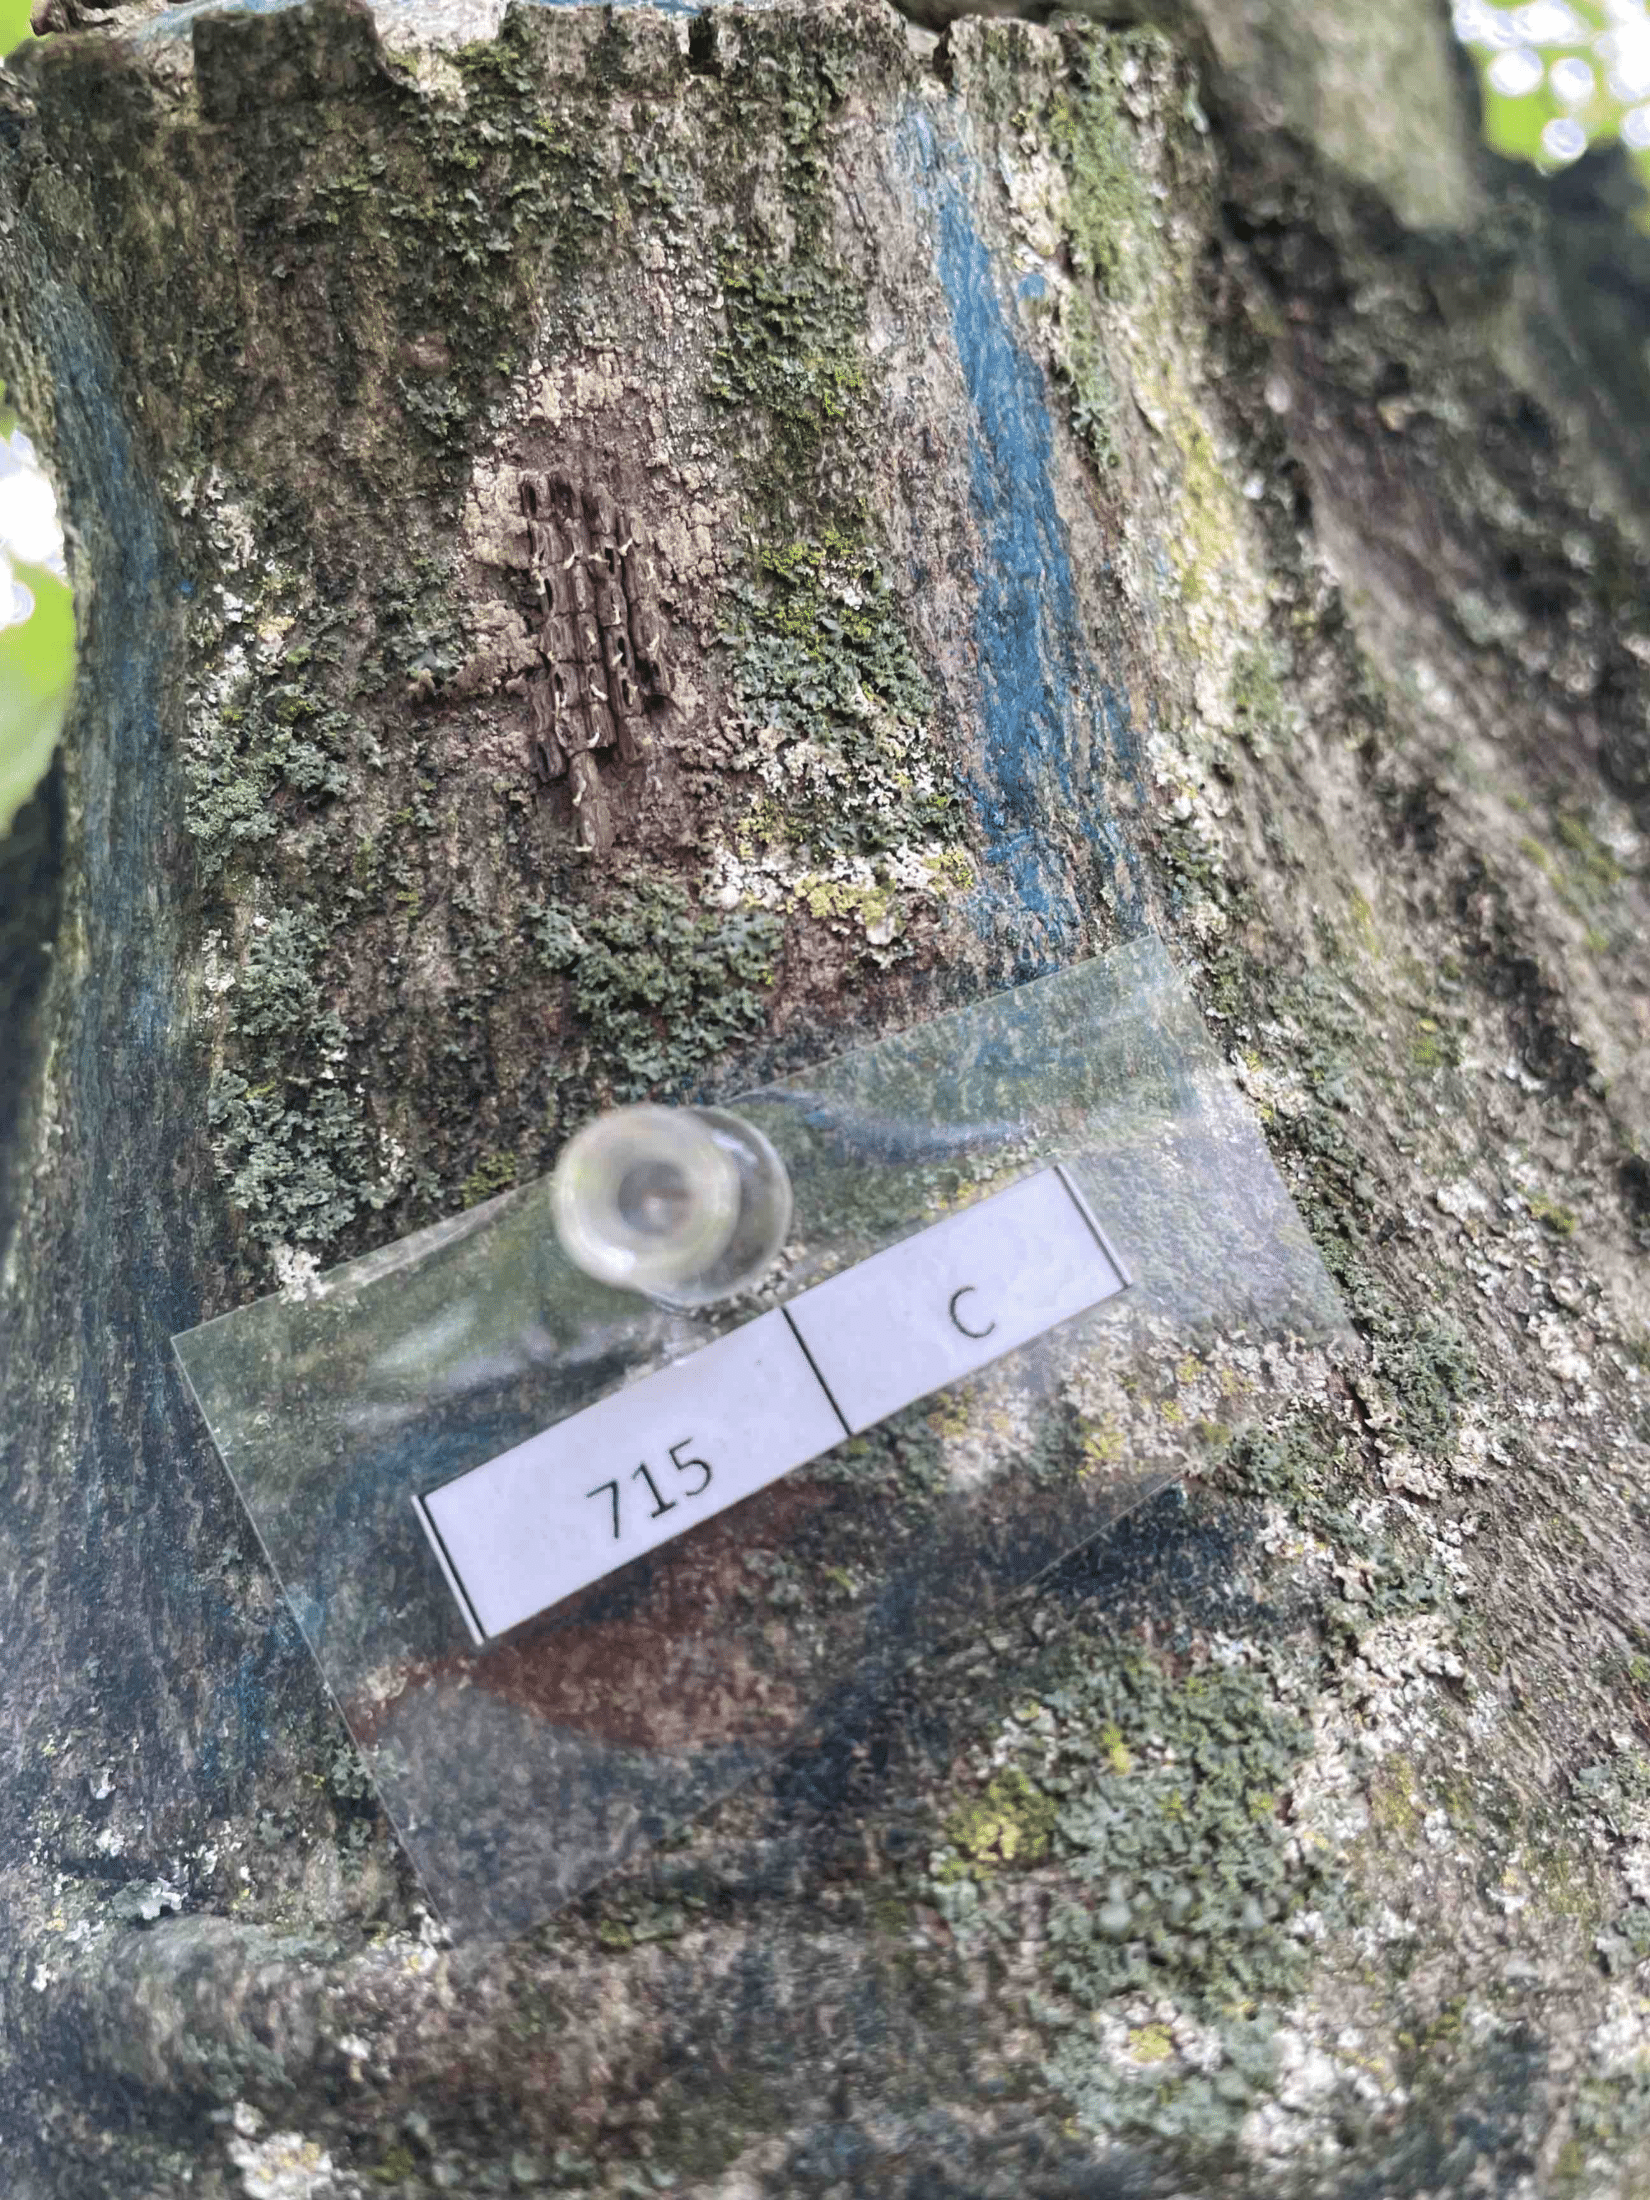egg masses: (421, 327, 737, 877)
